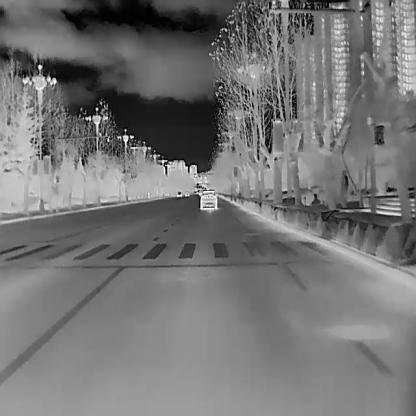car: (199, 189, 217, 210), (176, 190, 182, 197), (185, 191, 189, 197)
